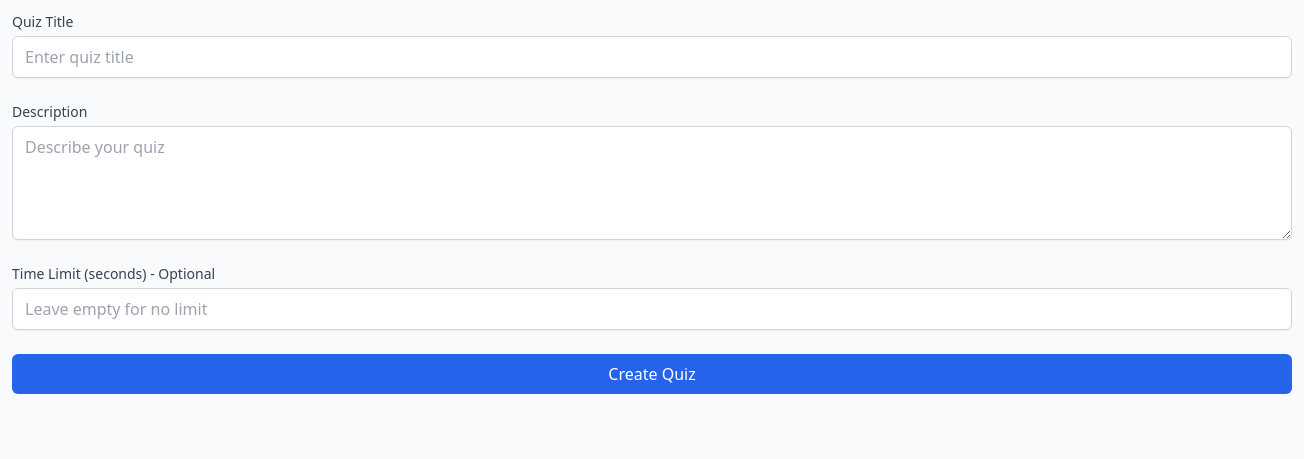
Test: CreateQuizForm › displays validation errors for short title
The width and height of the screenshot is (1304, 459).
Type "Hi" into the field labelled "Quiz Title" at (652, 57), box [12,36,1292,78]
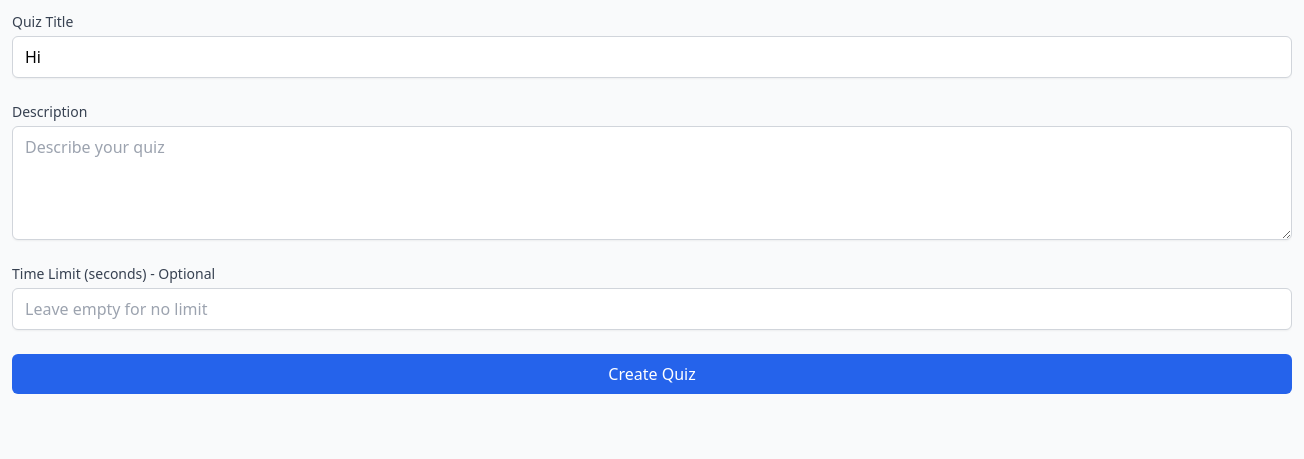
Click the button "Create Quiz" at (652, 374), box [12,354,1292,394]
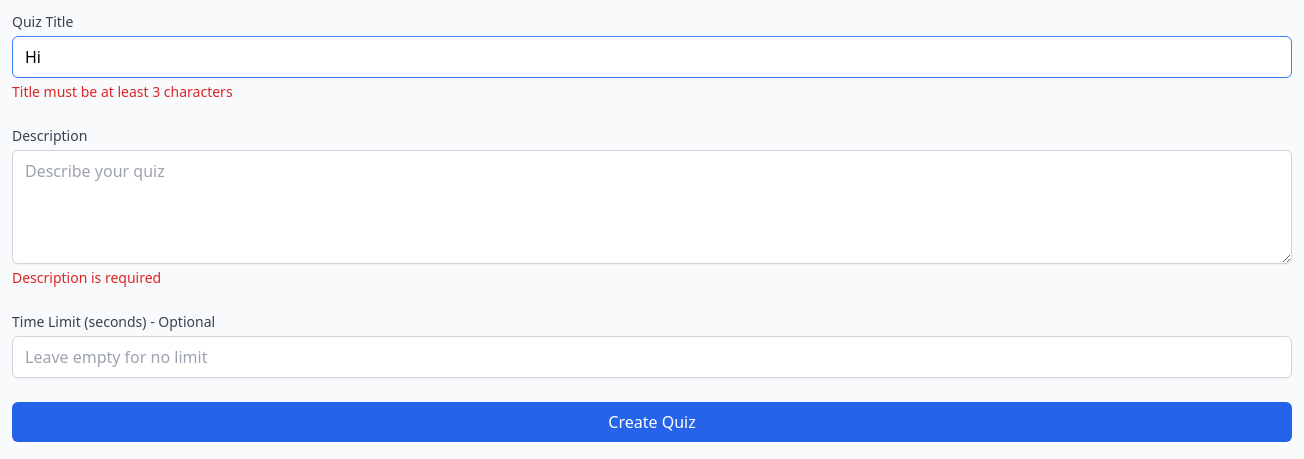
Now the text "Title must be at least 3 characters" is shown, box [12,82,233,101]
